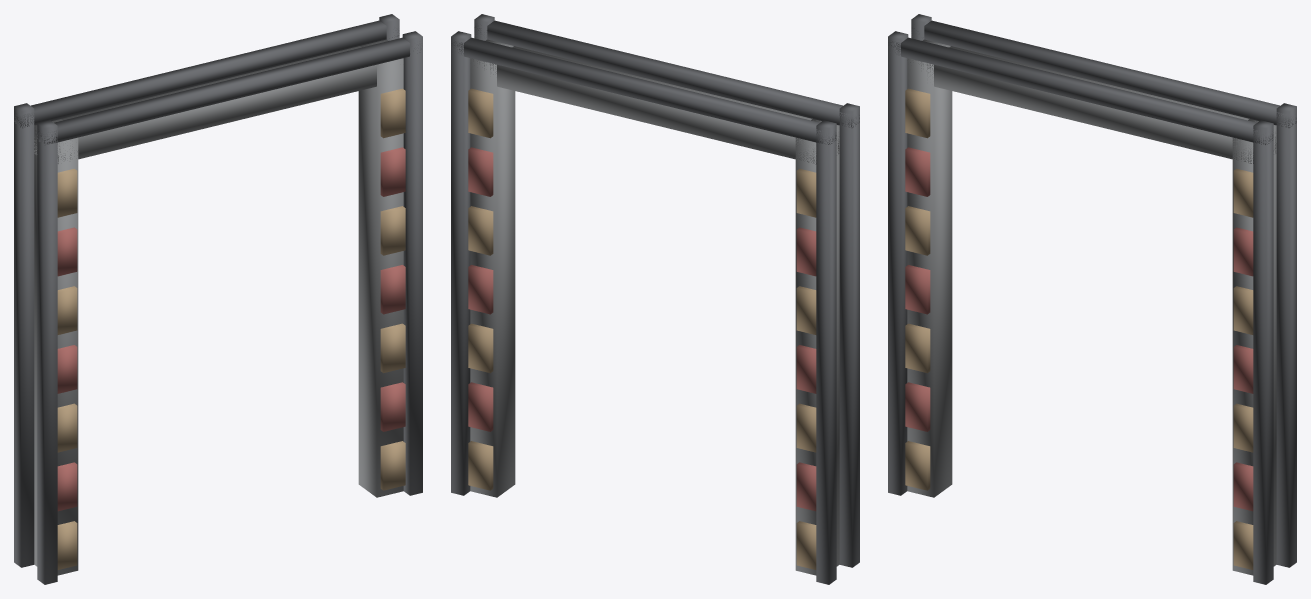
The model's file is doorway_brick_return_w152_h200_d16.glb.
3 renders of one model, left to right at view 1: azimuth 30°, elevation 25°; view 2: azimuth 150°, elevation 25°; view 3: azimuth 330°, elevation 25°, orthographic.
Parts seen in each view (by area): view 1: world; view 2: world; view 3: world.
Boxes of the visible parts, x1=… form: world: x1=14, y1=14, x2=422, y2=584; world: x1=451, y1=14, x2=859, y2=584; world: x1=888, y1=14, x2=1296, y2=584.
Bounding box in the file's own units: 1.92 × 2.22 × 0.2716.
